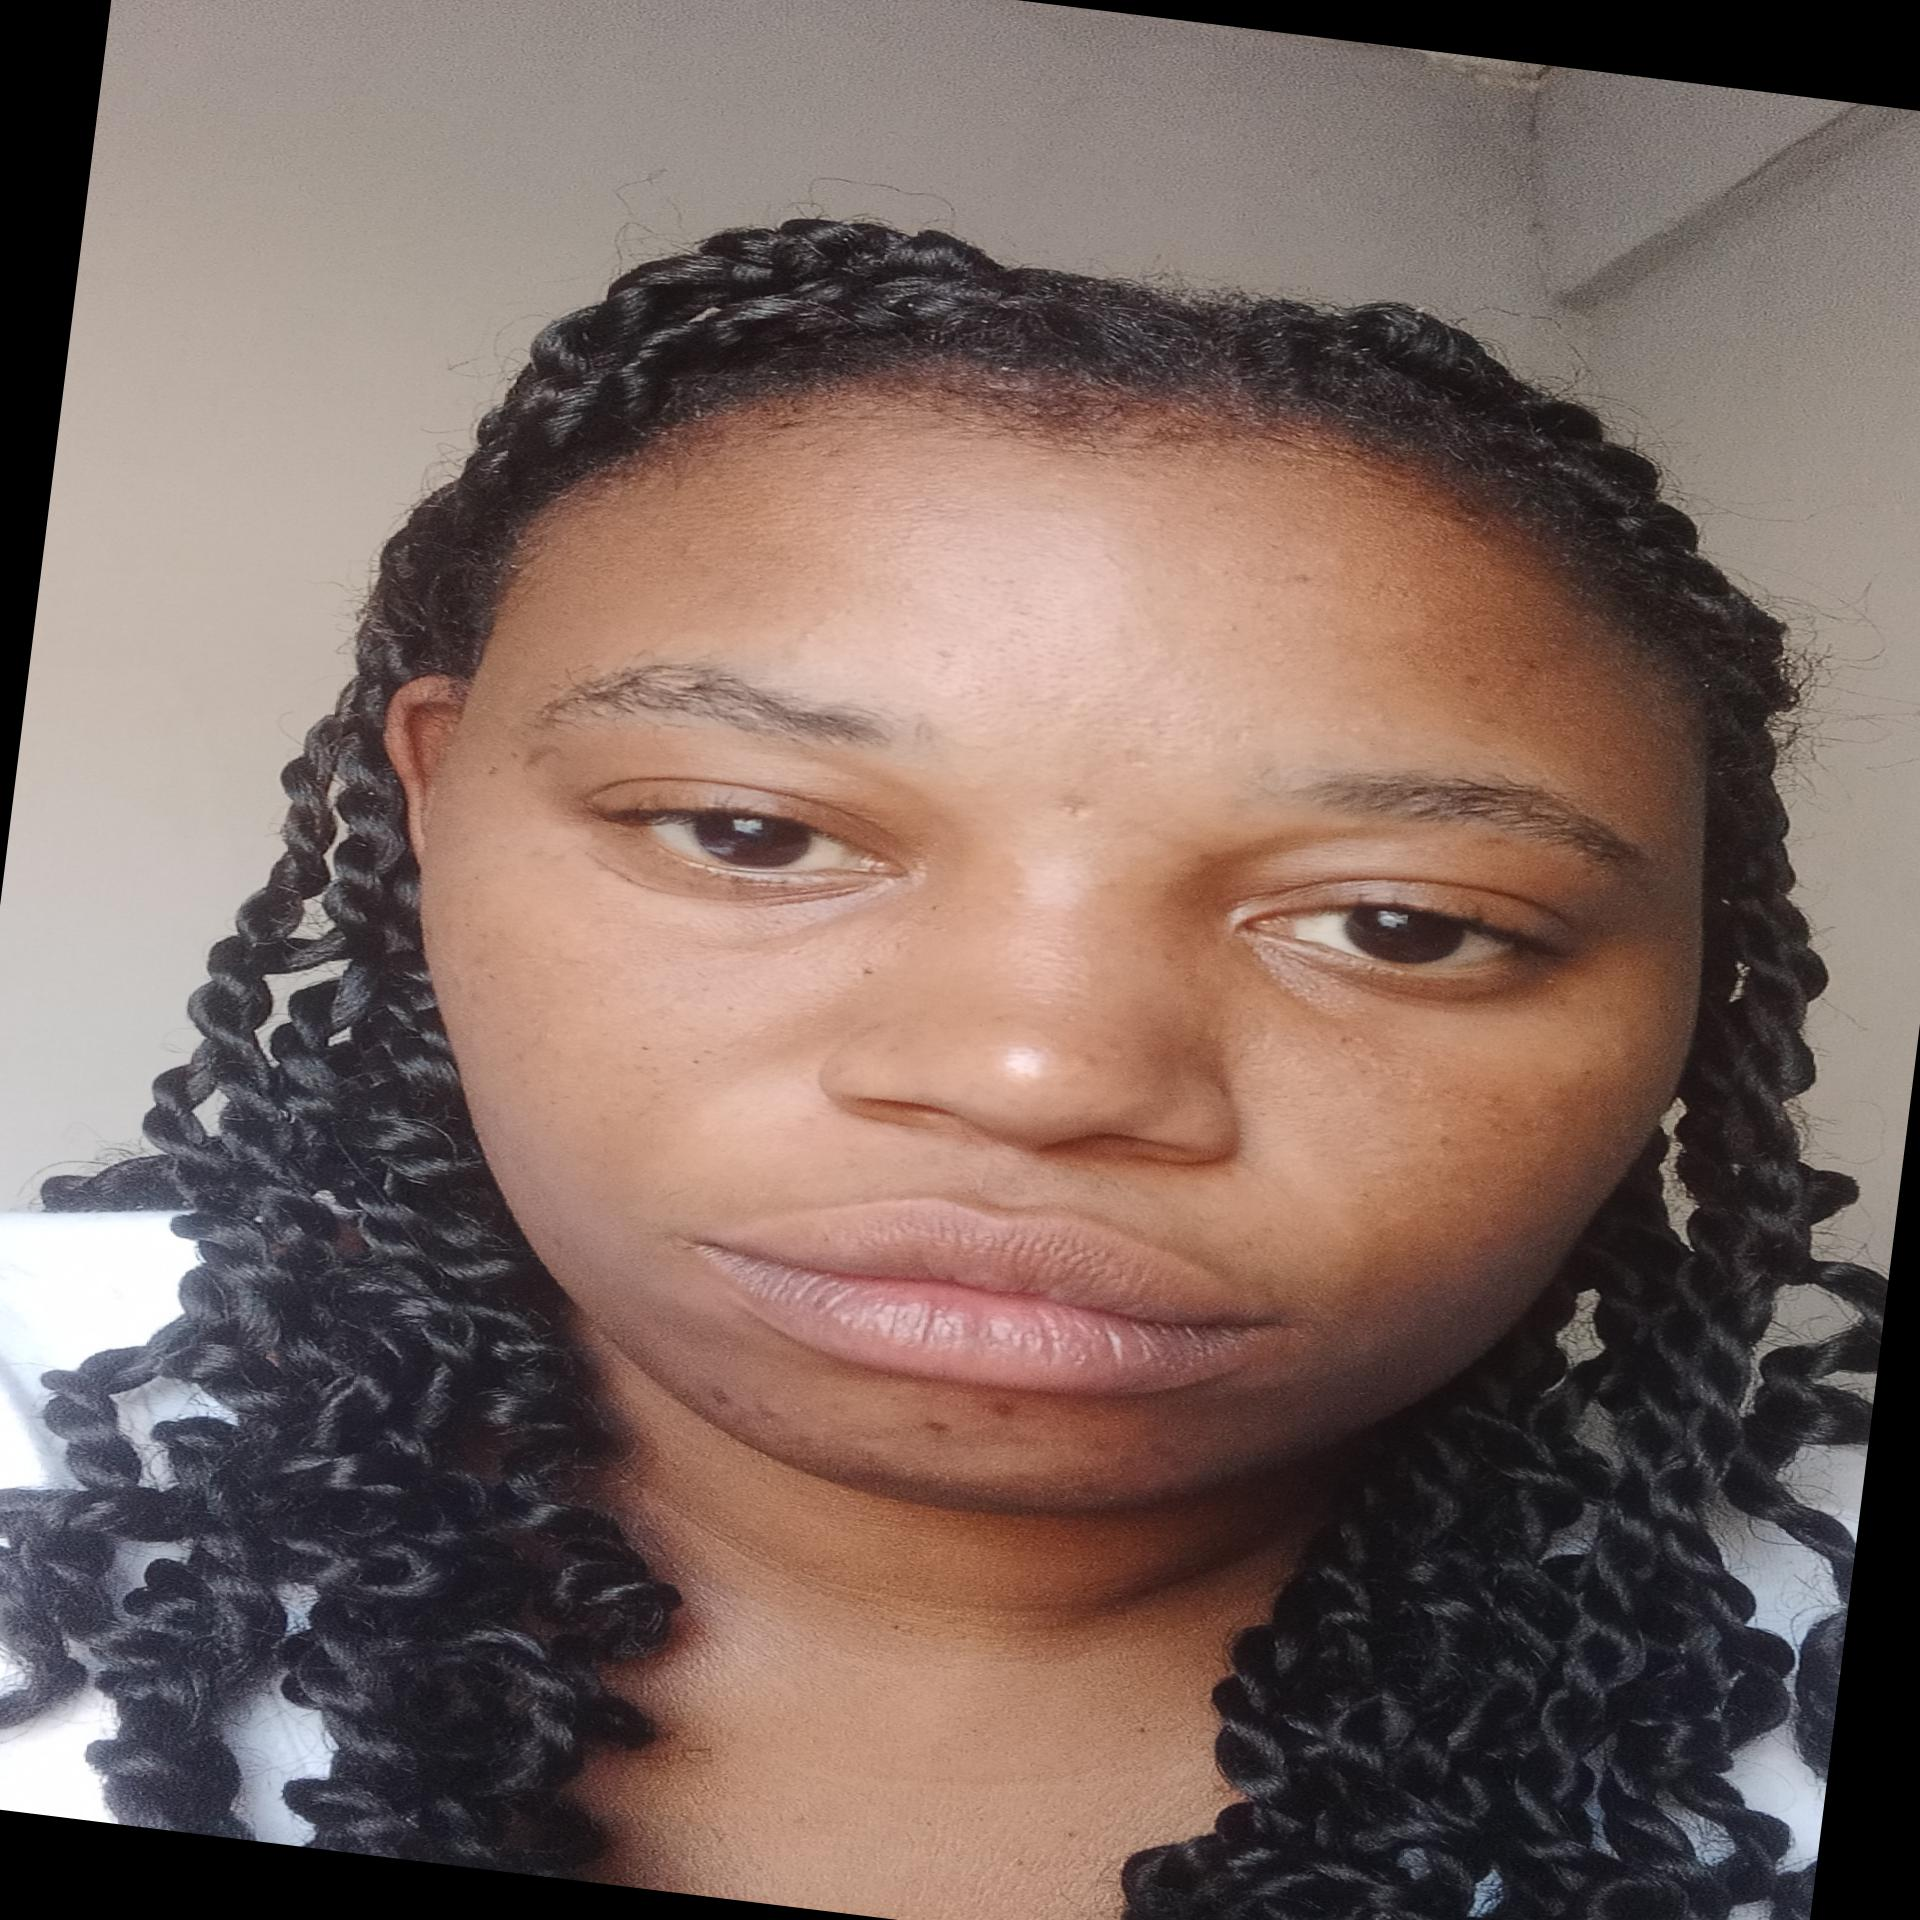Acne: (1336, 1048, 1558, 1129)
Blackhead: (951, 645, 1203, 767), (614, 1023, 749, 1076)
Dark Circles: (542, 823, 927, 972), (1217, 923, 1567, 1044)
